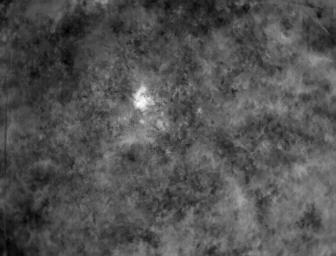landmine: (132, 90, 151, 110)
